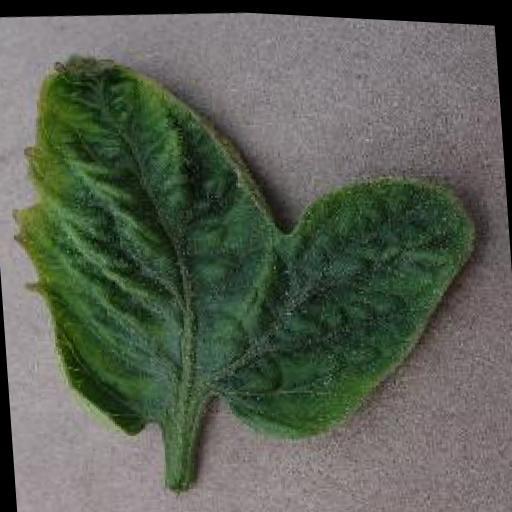Yellow Leaf Curl Virus: (3, 22, 495, 464)
